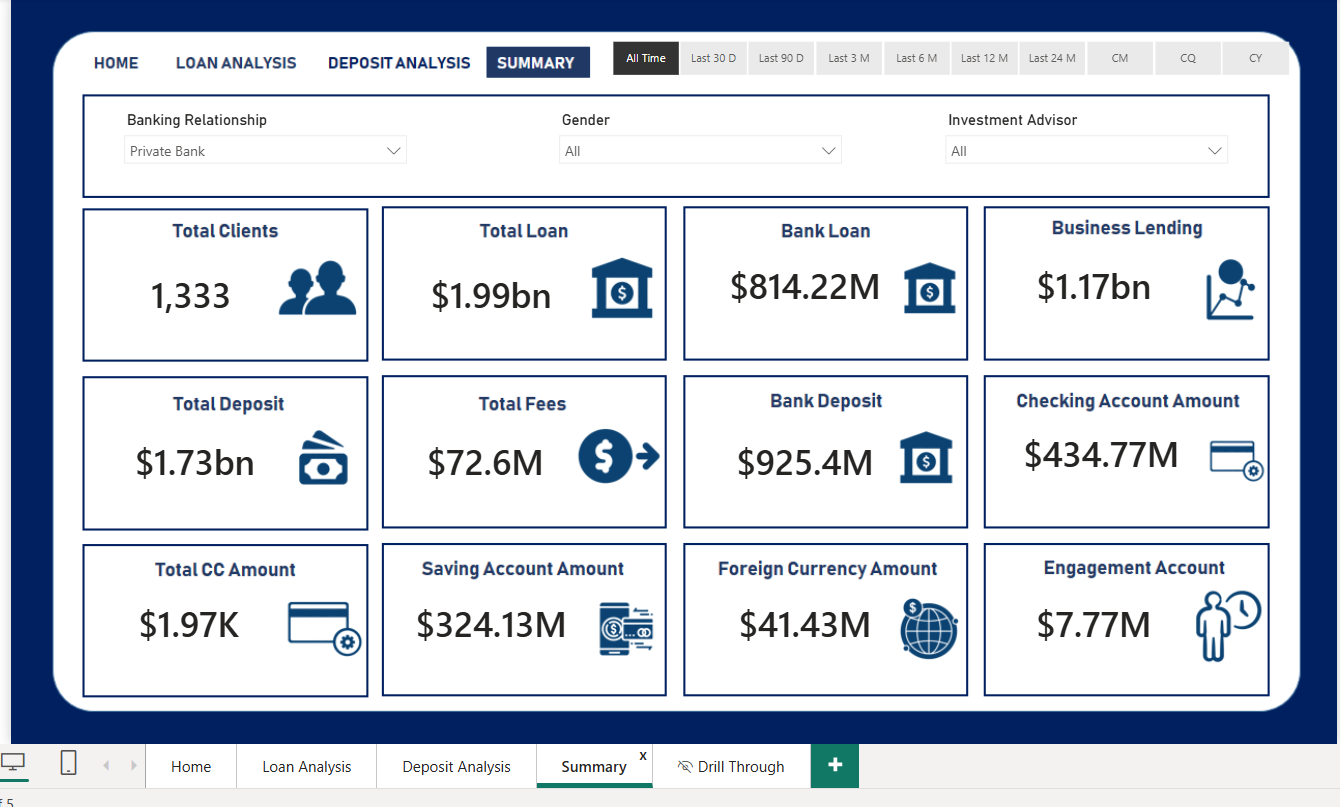

What the dashboard file says about the page in this screenshot:
{"tool":"powerbi","page":{"name":"Summary","canvas":[1280,720],"ordinal":3},"visuals":[{"type":"card","fields":{"Values":["DAX Measures.Engagment Length"]},"box":[946.3,546.4,198.2,114.9],"z":0},{"type":"card","fields":{"Values":["DAX Measures.Foreign Currency Account"]},"box":[667.2,546.4,198.2,114.9],"z":1000},{"type":"card","fields":{"Values":["DAX Measures.Bank Deposit"]},"box":[667.2,390.5,198.2,114.9],"z":2000},{"type":"card","fields":{"Values":["DAX Measures.Checking Accounts"]},"box":[953.4,382.3,198.2,114.9],"z":3000},{"type":"card","fields":{"Values":["DAX Measures.Bank Loan"]},"box":[667.2,220.5,198.2,114.9],"z":4000},{"type":"card","fields":{"Values":["DAX Measures.Business Lending"]},"box":[953.4,220.5,184.1,114.9],"z":5000},{"type":"card","fields":{"Values":["DAX Measures.Savings Account"]},"box":[360,546.4,207.6,114.9],"z":6000},{"type":"card","fields":{"Values":["DAX Measures.Total CC Amount"]},"box":[72.7,546.4,198.2,114.9],"z":7000},{"type":"card","fields":{"Values":["DAX Measures.Total Deposit"]},"box":[78.6,390.5,198.2,114.9],"z":8000},{"type":"card","fields":{"Values":["DAX Measures.Total Fees"]},"box":[365.9,390.5,184.1,114.9],"z":9000},{"type":"card","fields":{"Values":["DAX Measures.Total Clients"]},"box":[75,228.7,198.2,114.9],"z":10000},{"type":"card","fields":{"Values":["DAX Measures.Total Loan"]},"box":[365.9,228.7,195.8,114.9],"z":11000},{"type":"slicer","fields":{"Values":["Banking Relationship.Banking Relationship"]},"box":[98.5,104.3,292.9,75.7],"z":12000},{"type":"slicer","fields":{"Values":["Gender.Gender"]},"box":[518.9,104.3,292.9,75.7],"z":13000},{"type":"slicer","fields":{"Values":["Investment Advisor.Investment Advisor"]},"box":[891.3,104.3,292.9,75.7],"z":14000},{"type":"slicer","fields":{"Values":["Period.Name"]},"box":[555.2,34.6,702.1,46.6],"z":15000},{"type":"actionButton","box":[72.8,44.2,58.5,31],"z":16000},{"type":"actionButton","box":[306.9,44.7,119.4,31],"z":17000},{"type":"actionButton","box":[297.9,44.6,147.8,30.5],"z":18000},{"type":"actionButton","box":[157.1,44.6,125.5,30.5],"z":19000}]}

Visuals, with their boxes on the page's 1280x720 design canvas (x1, y1, x2, y2). These are canvas units, not pixel positions in the 1340x807 screenshot, which may show the page scaled, cropped or inside an application window:
card - DAX Measures.Engagment Length: 946/546/1144/661
card - DAX Measures.Foreign Currency Account: 667/546/865/661
card - DAX Measures.Bank Deposit: 667/390/865/505
card - DAX Measures.Checking Accounts: 953/382/1152/497
card - DAX Measures.Bank Loan: 667/220/865/335
card - DAX Measures.Business Lending: 953/220/1138/335
card - DAX Measures.Savings Account: 360/546/568/661
card - DAX Measures.Total CC Amount: 73/546/271/661
card - DAX Measures.Total Deposit: 79/390/277/505
card - DAX Measures.Total Fees: 366/390/550/505
card - DAX Measures.Total Clients: 75/229/273/344
card - DAX Measures.Total Loan: 366/229/562/344
slicer - Banking Relationship.Banking Relationship: 98/104/391/180
slicer - Gender.Gender: 519/104/812/180
slicer - Investment Advisor.Investment Advisor: 891/104/1184/180
slicer - Period.Name: 555/35/1257/81
actionButton: 73/44/131/75
actionButton: 307/45/426/76
actionButton: 298/45/446/75
actionButton: 157/45/283/75
